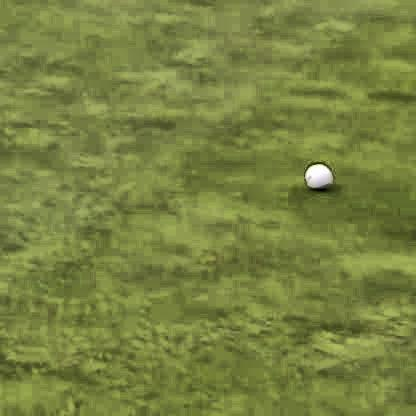golfball: (300, 159, 328, 187)
